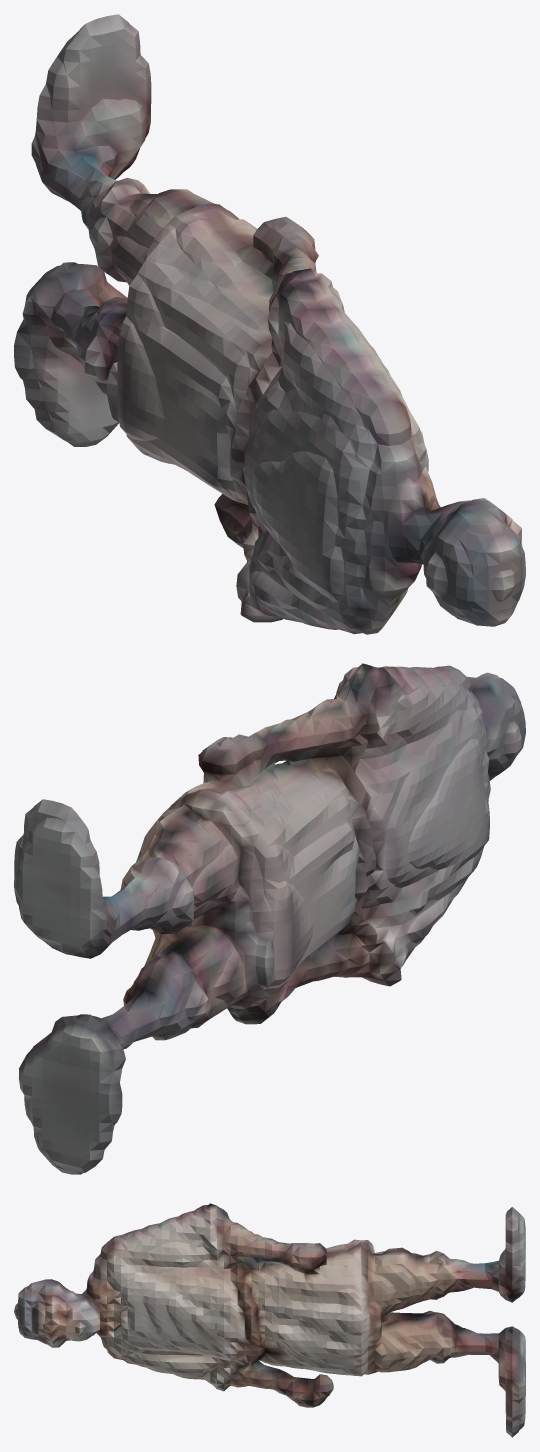
The model's file is ancient_commoner_m_0.glb.
3 renders of one model, top to bottom at view 1: azimuth 30°, elevation 25°; view 2: azimuth 150°, elevation 25°; view 3: azimuth 270°, elevation 25°, orthographic. The views are drawn at different scales.
Parts seen in each view (by area): view 1: world; view 2: world; view 3: world.
Part boxes in pixels (x1,y1,x2,y2): world: (14, 14, 525, 634); world: (14, 663, 525, 1174); world: (14, 1203, 525, 1437).
Bounding box in the file's own units: 0.2323 × 0.5049 × 1.02.
